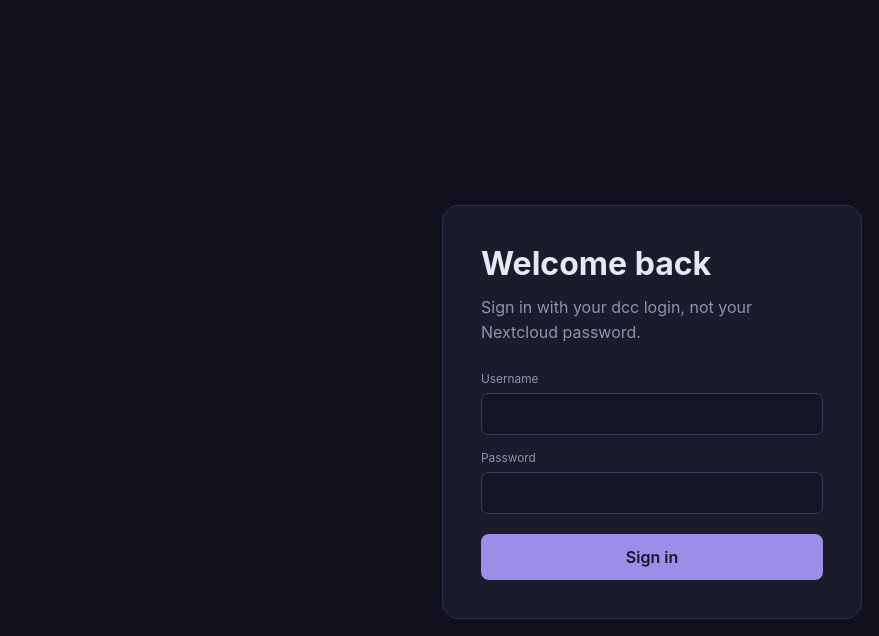
Test: restores the internal login route after successful sign-in
Type "user" into the field labelled "Username" at (652, 414), box [481,393,823,435]
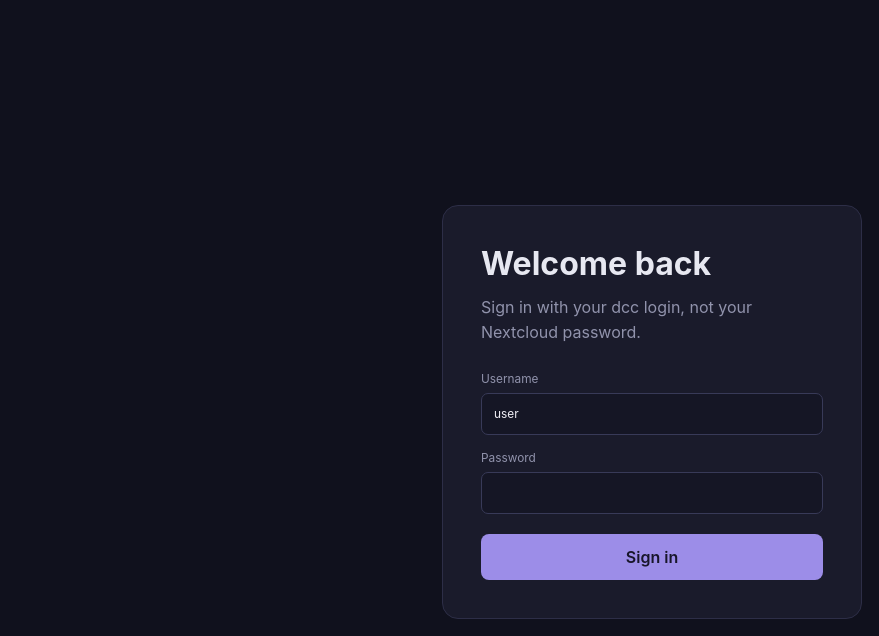
Type "secret" into the password field labelled "Password" at (652, 493), box [481,472,823,514]
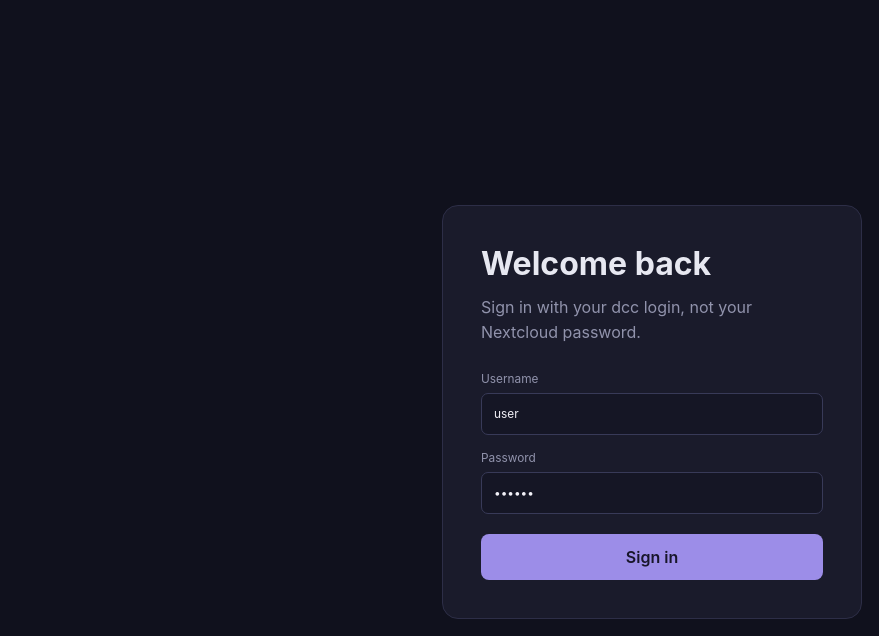
Click the button "Sign in" at (652, 557), box [481,534,823,580]
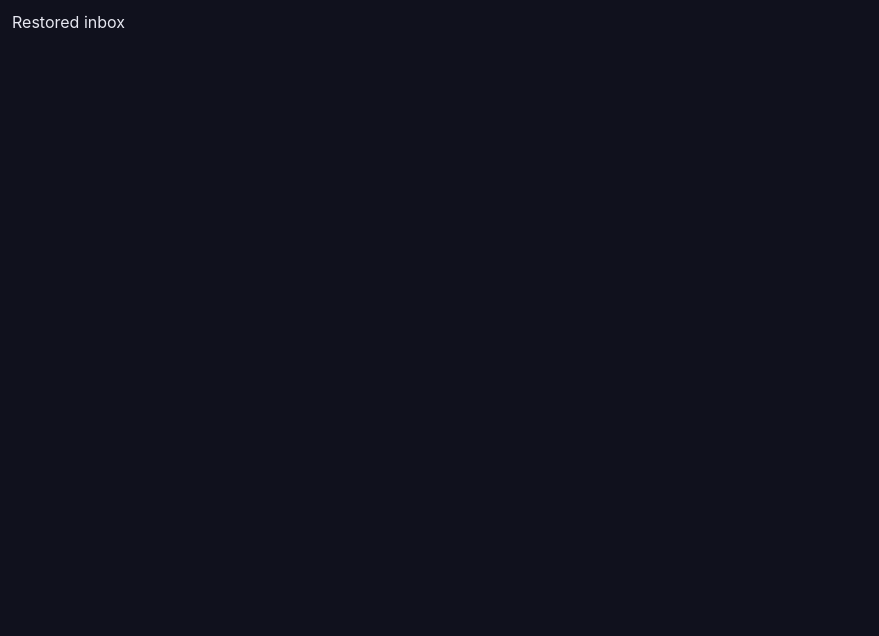
Check: the text "Restored inbox" is shown, box [12,12,125,32]
